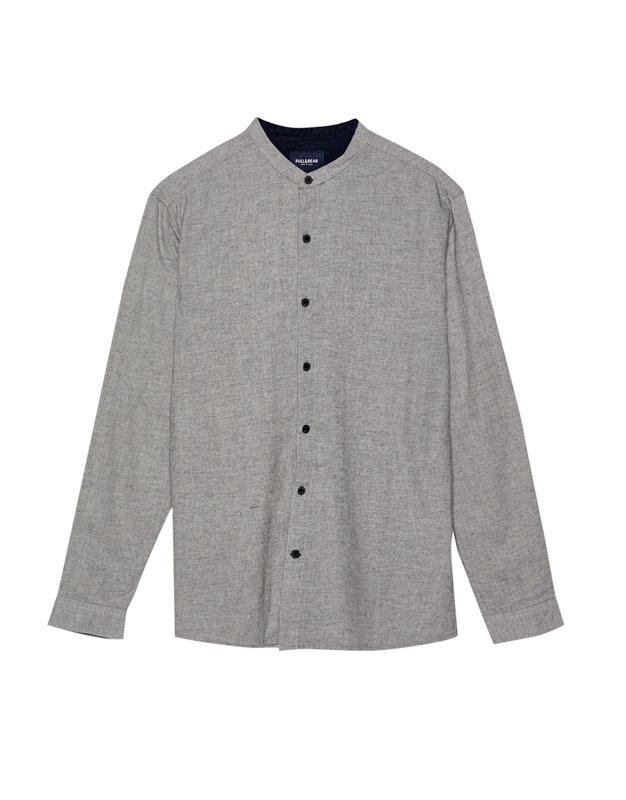teeshirt: (48, 109, 575, 674)
